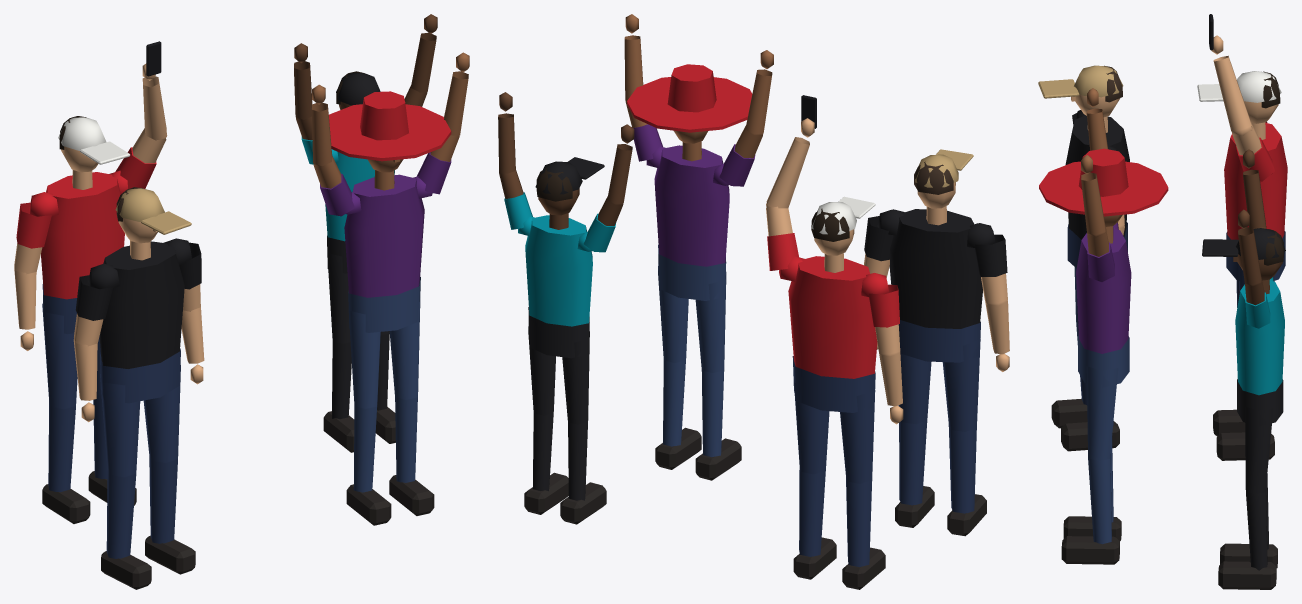
The model's file is crowd_d.dae.
3 renders of one model, left to right at view 1: azimuth 30°, elevation 25°; view 2: azimuth 150°, elevation 25°; view 3: azimuth 270°, elevation 25°, orthographic. The views are drawn at different scales.
Parts seen in each view (by area): view 1: marker; view 2: marker; view 3: marker.
Boxes of the visible parts, x1,y1,x2,y2 form: marker: (14,14,469,589); marker: (498,14,1009,589); marker: (1038,14,1287,589).
Size of the model in its own units: 2.06 by 1.04 by 2.08.
1 material, 1 textured.
